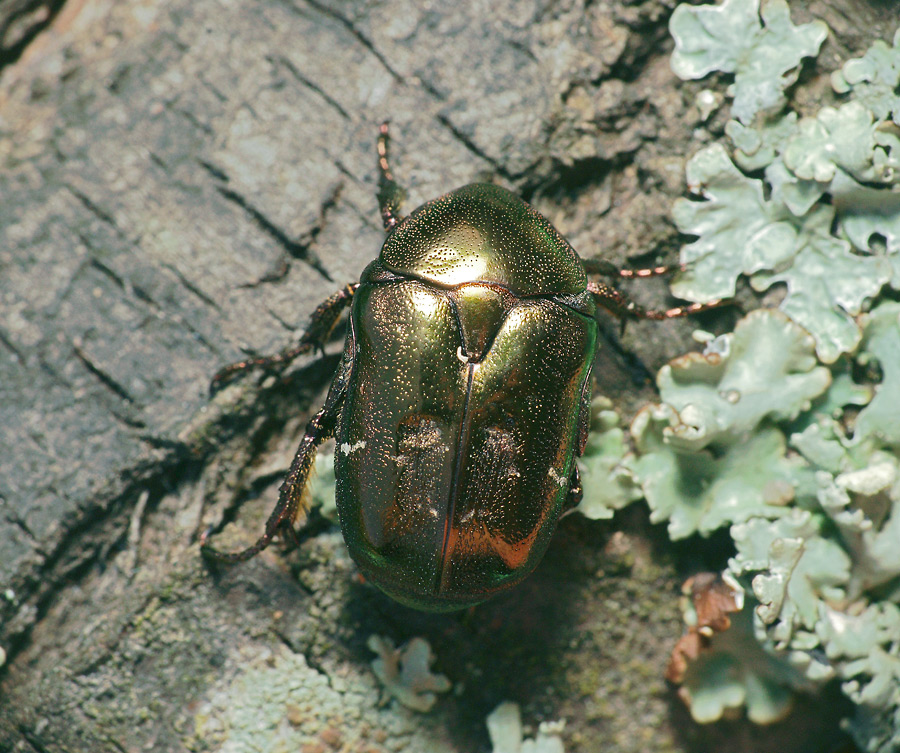Protaetia_fieberi: (197, 117, 708, 634)
